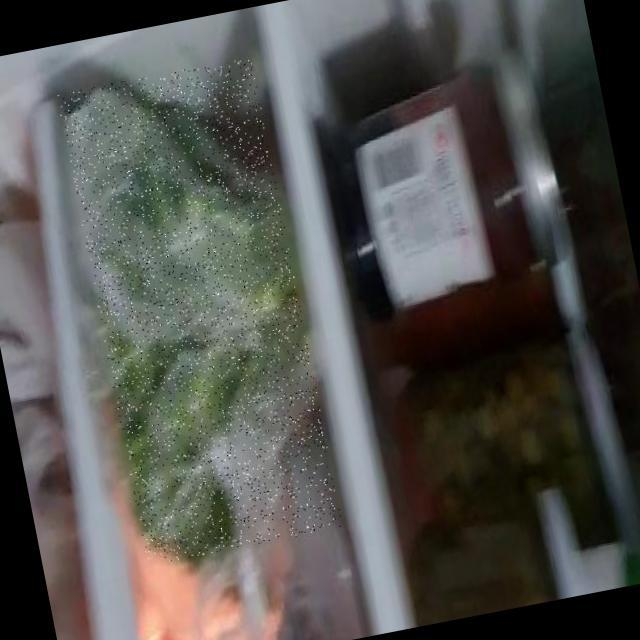Lechuga/Endivia: (56, 57, 342, 566)
